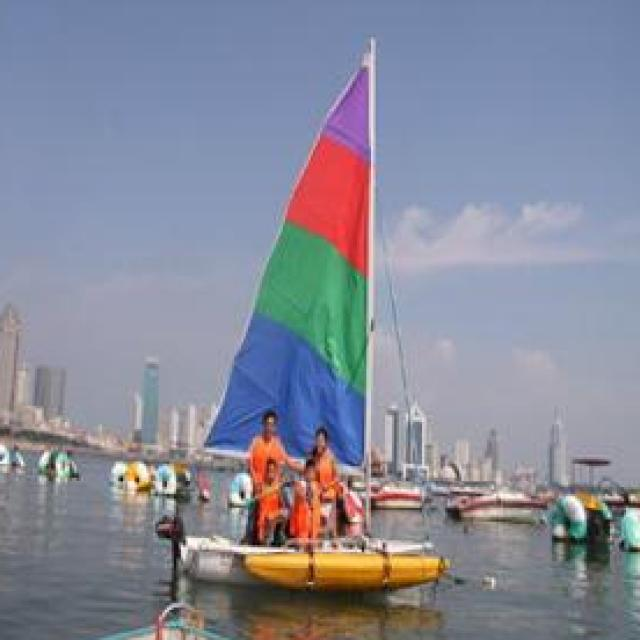sailboat: (180, 31, 430, 589)
